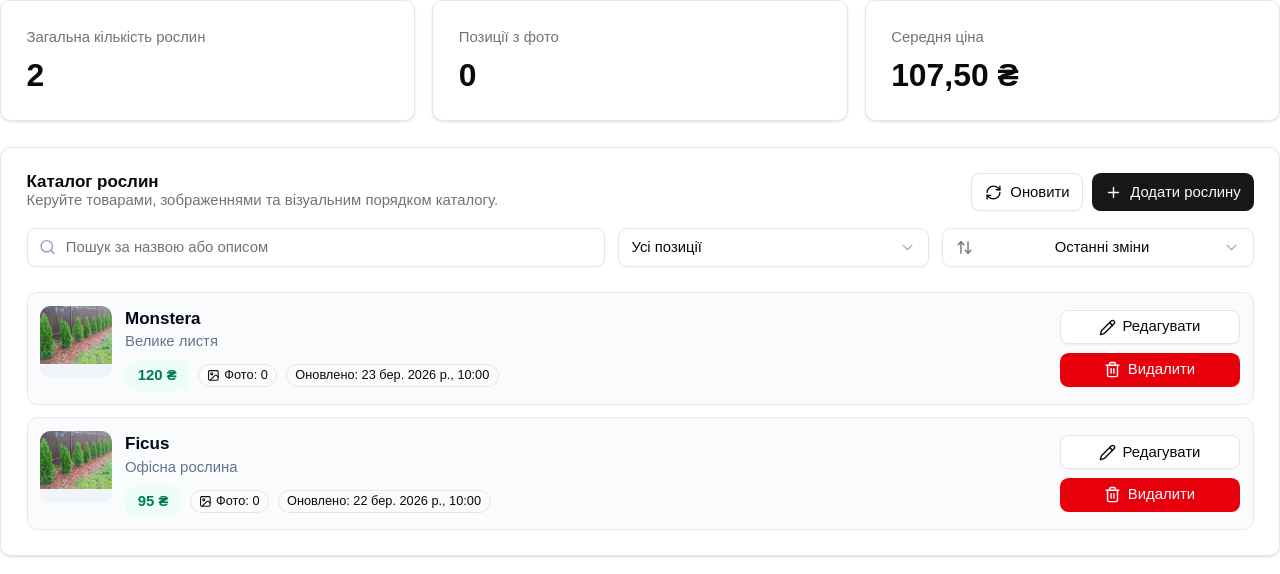
Test: PlantsAdminManager › фільтрує каталог через пошук
The width and height of the screenshot is (1280, 574).
Step 1. Type "Ficus" into the field with placeholder "Пошук за назвою або описом" → [316, 247], box [26, 228, 605, 267]
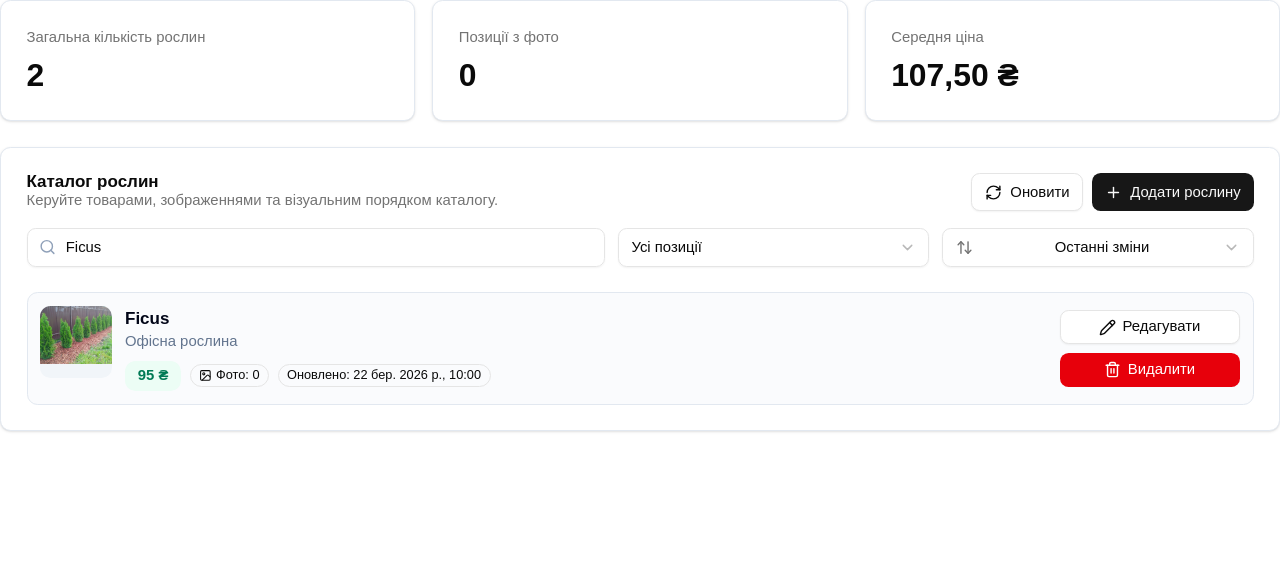
Expected: the heading "Ficus" is shown, [125, 309, 169, 328]
Expected: the heading "Monstera" is gone
